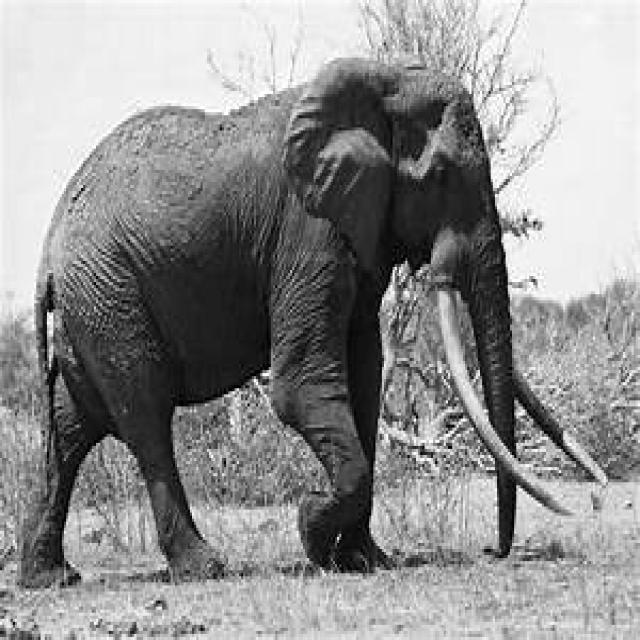elephant: (21, 58, 599, 591)
